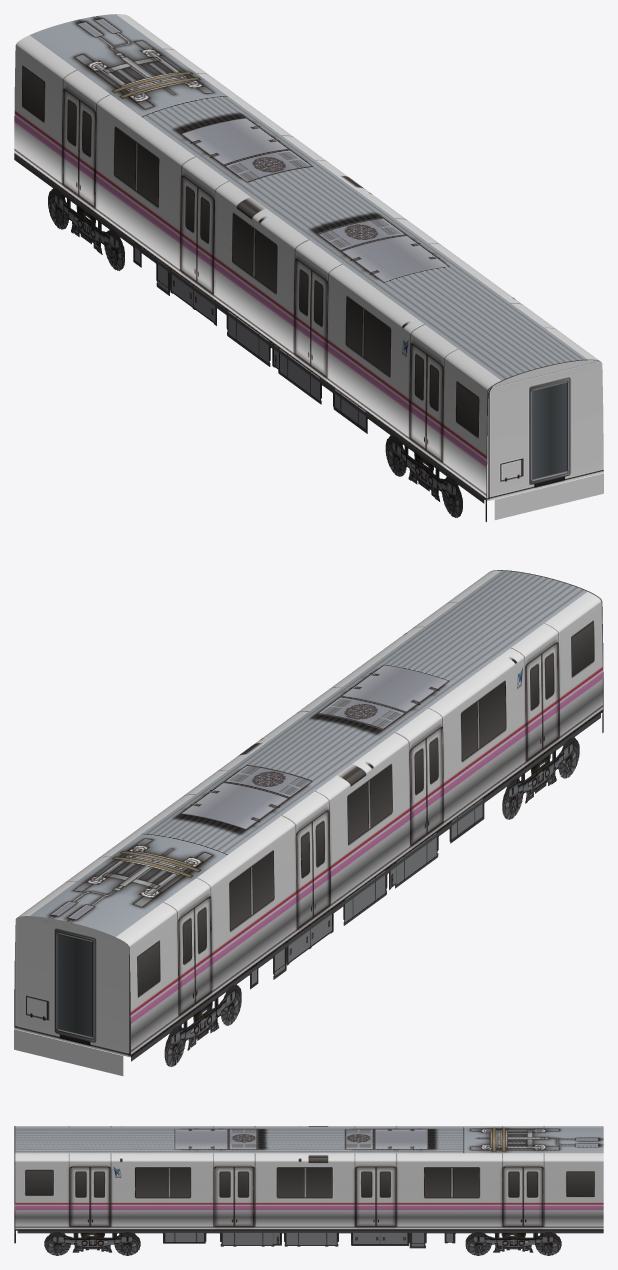
The model's file is car2.glb.
3 renders of one model, top to bottom at view 1: azimuth 30°, elevation 25°; view 2: azimuth 150°, elevation 25°; view 3: azimuth 270°, elevation 25°, orthographic. The views are drawn at different scales.
Parts seen in each view (by area): view 1: meitetsu300-car2; view 2: meitetsu300-car2; view 3: meitetsu300-car2.
Part boxes in pixels (bbox=[...]): meitetsu300-car2: bbox=[14, 14, 603, 521]; meitetsu300-car2: bbox=[14, 570, 603, 1075]; meitetsu300-car2: bbox=[14, 1126, 603, 1255].
Bounding box in the file's own units: 2.75 × 3.62 × 19.33.
9 materials, 8 textured.
